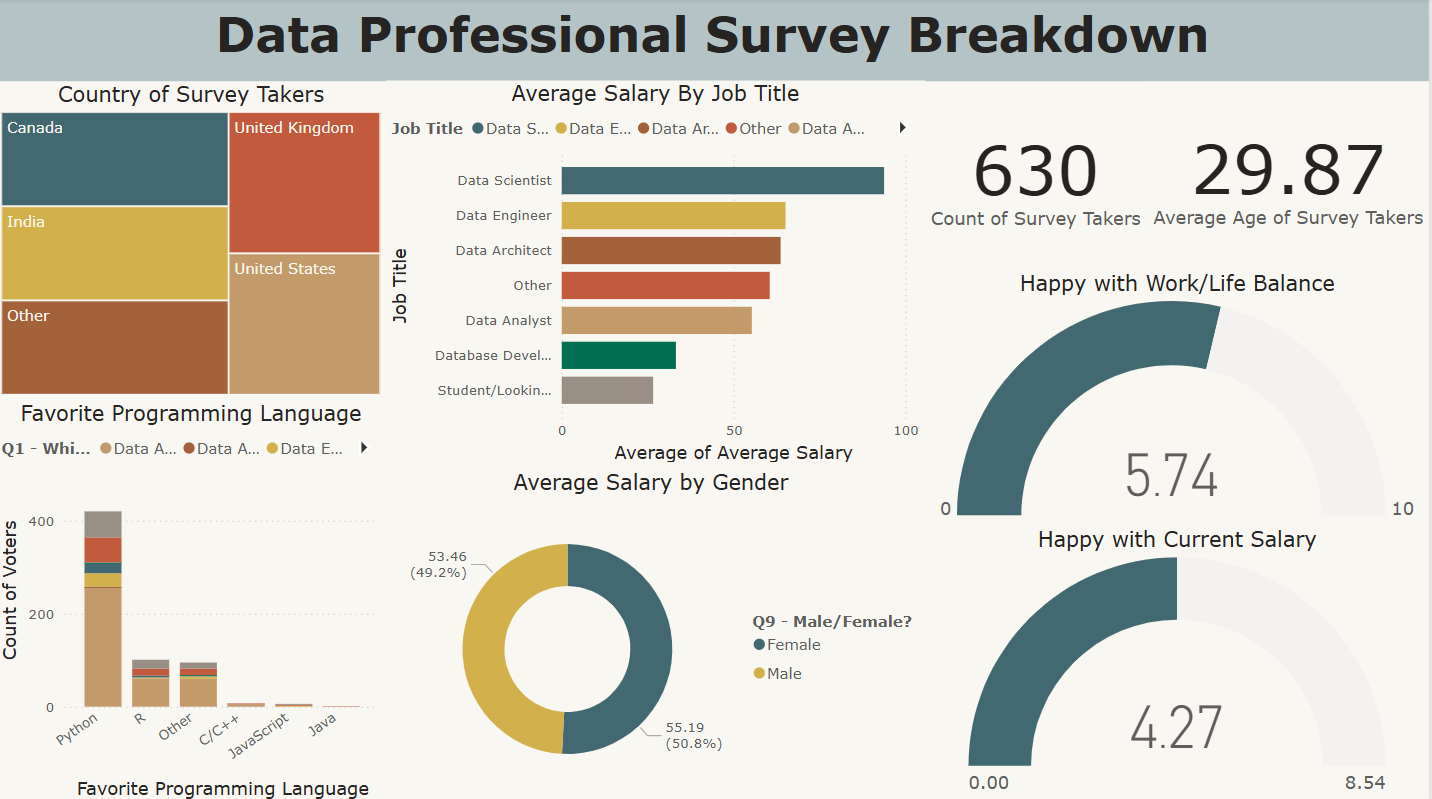

This screenshot's page, from the dashboard's own definition file:
{"tool":"powerbi","page":{"name":"Page 1","canvas":[1280,720],"ordinal":0},"visuals":[{"type":"textbox","box":[0,0,1280.3,74.1],"z":0},{"type":"card","fields":{"Values":["Count(Data Professional Survey.Unique ID)"]},"box":[829.7,75.9,198.8,167.5],"z":1000},{"type":"card","fields":{"Values":["Avg(Data Professional Survey.Q10 - Current Age)"]},"box":[1028.4,74.8,252.4,167.5],"z":2000},{"type":"barChart","title":"Average Salary By Job Title","fields":{"Category":["Data Professional Survey.Q1 - Which Title Best Fits your Current Role?.1"],"Y":["Avg(Data Professional Survey.Average Salary)"],"Series":["Data Professional Survey.Q1 - Which Title Best Fits your Current Role?.1"]},"box":[348.4,73.7,481.3,346.2],"z":3000},{"type":"columnChart","title":"Favorite Programming Language","fields":{"Category":["Data Professional Survey.Q5 - Favorite Programming Language.1"],"Y":["CountNonNull(Data Professional Survey.Unique ID)"],"Series":["Data Professional Survey.Q1 - Which Title Best Fits your Current Role?.1"]},"box":[0,359.6,348.4,360.7],"z":4000},{"type":"treemap","title":"Country of Survey Takers","fields":{"Values":["Count(Data Professional Survey.Q11 - Which Country do you live in?.1)"],"Group":["Data Professional Survey.Q11 - Which Country do you live in?.1"]},"box":[0,74.8,348.4,284.7],"z":5000},{"type":"gauge","title":"Happy with Work/Life Balance","fields":{"Y":["Avg(Data Professional Survey.Q6 - How Happy are you in your Current Position with the following? (Work/Life Balance))"],"MinValue":["Min(Data Professional Survey.Q6 - How Happy are you in your Current Position with the following? (Work/Life Balance))"],"MaxValue":["Max(Data Professional Survey.Q6 - How Happy are you in your Current Position with the following? (Work/Life Balance))"]},"box":[829.7,243.4,451.1,228.9],"z":6000},{"type":"gauge","title":"Happy with Current Salary","fields":{"Y":["Avg(Data Professional Survey.Q6 - How Happy are you in your Current Position with the following? (Salary))"]},"box":[829.7,472.3,451.1,247.9],"z":7000},{"type":"donutChart","title":"Average Salary by Gender","fields":{"Category":["Data Professional Survey.Q9 - Male/Female?"],"Y":["Avg(Data Professional Survey.Average Salary)"]},"box":[340.6,421,489.1,299.3],"z":7001}]}

Visuals, with their boxes in screenshot pixels (x1, y1, x2, y2), scaled from the page's 1280x720 canvas onto the 1432x799 screenshot:
textbox: [left=0, top=0, right=1431, bottom=82]
card - Count(Data Professional Survey.Unique ID): [left=928, top=84, right=1151, bottom=270]
card - Avg(Data Professional Survey.Q10 - Current Age): [left=1151, top=83, right=1431, bottom=269]
"Average Salary By Job Title" barChart: [left=390, top=82, right=928, bottom=466]
"Favorite Programming Language" columnChart: [left=0, top=399, right=390, bottom=798]
"Country of Survey Takers" treemap: [left=0, top=83, right=390, bottom=399]
"Happy with Work/Life Balance" gauge: [left=928, top=270, right=1431, bottom=524]
"Happy with Current Salary" gauge: [left=928, top=524, right=1431, bottom=798]
"Average Salary by Gender" donutChart: [left=381, top=467, right=928, bottom=798]
